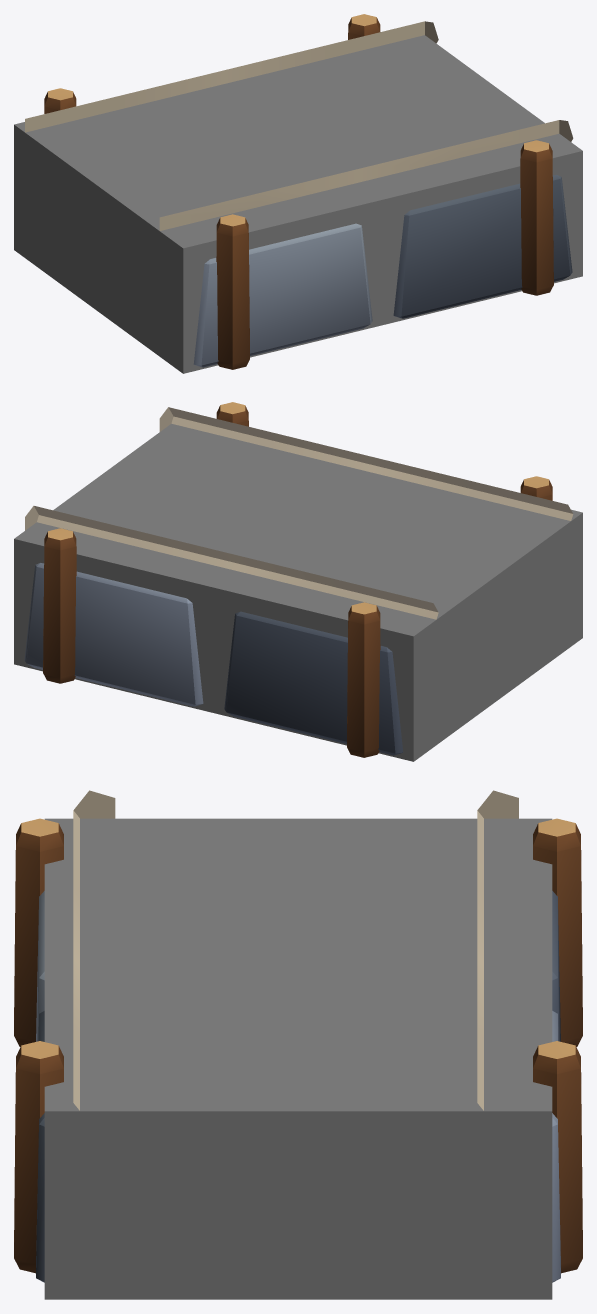
File: conveyor_straight.glb
The picture shows the model from 3 angles, top to bottom: view 1: azimuth 30°, elevation 25°; view 2: azimuth 150°, elevation 25°; view 3: azimuth 270°, elevation 25°; orthographic projection. The views are drawn at different scales.
Parts seen in each view (by area): view 1: COL_Belt, conveyor_straight_Static; view 2: COL_Belt, conveyor_straight_Static; view 3: COL_Belt, conveyor_straight_Static.
Boxes of the visible parts, x1,y1,x2,y2 form: COL_Belt: [14, 35, 582, 373]; conveyor_straight_Static: [25, 14, 573, 369]; COL_Belt: [14, 423, 582, 761]; conveyor_straight_Static: [24, 402, 573, 757]; COL_Belt: [44, 818, 552, 1299]; conveyor_straight_Static: [14, 790, 582, 1282].
Bounding box in the file's own units: 1.2 × 0.414 × 0.9861.
